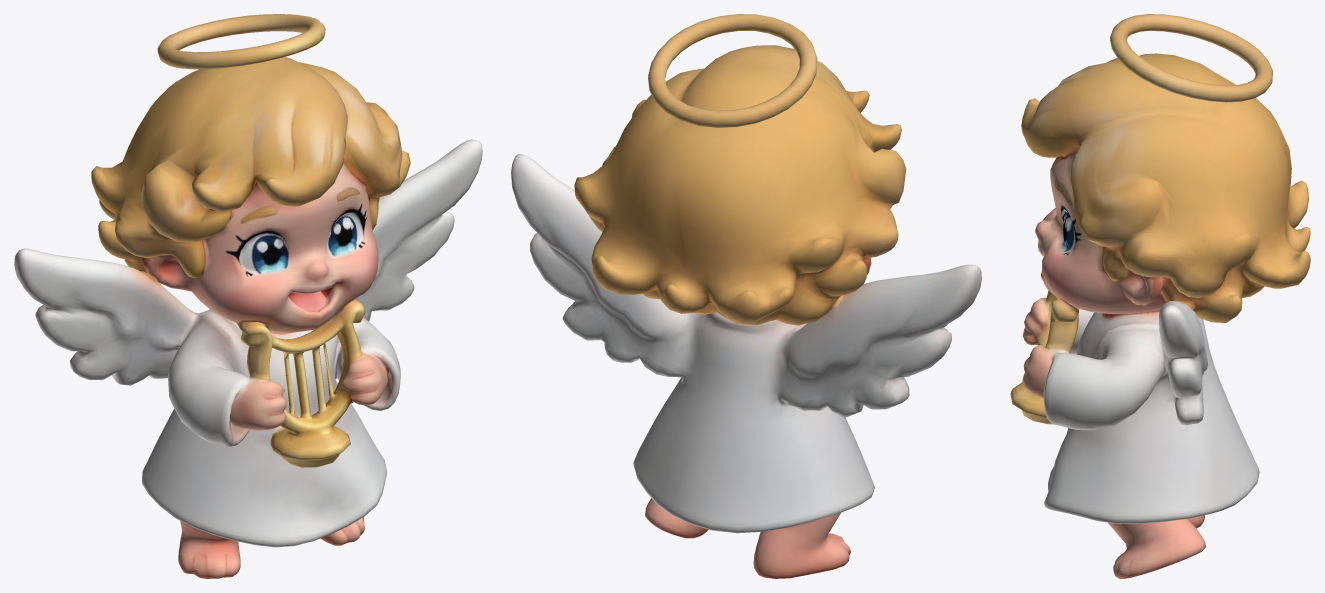
The model's file is engel.glb.
3 renders of one model, left to right at view 1: azimuth 30°, elevation 25°; view 2: azimuth 150°, elevation 25°; view 3: azimuth 270°, elevation 25°, orthographic. The views are drawn at different scales.
Visible parts, largest first — view 1: model; view 2: model; view 3: model.
Part boxes in pixels (x1,y1,x2,y2): model: (14,14,482,578); model: (511,14,981,578); model: (1010,14,1310,578).
Bounding box in the file's own units: 1.77 × 1.9 × 1.01.
1 material, 1 textured.
